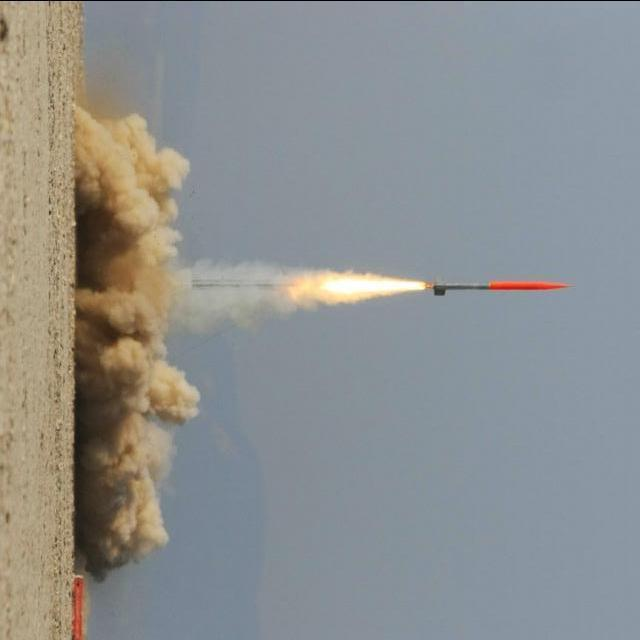missile: (425, 277, 568, 303)
